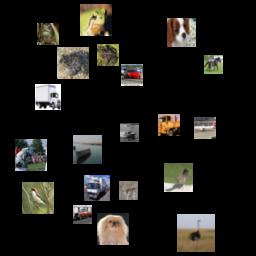airplane: (194, 117, 216, 139)
automobile: (121, 64, 143, 86), (73, 205, 92, 224)
bird: (177, 214, 215, 252), (22, 182, 54, 214), (164, 163, 193, 192)
deer: (119, 181, 138, 200)
dog: (97, 213, 129, 245), (167, 18, 196, 47)
frog: (80, 4, 112, 36), (57, 47, 89, 79), (37, 23, 59, 45), (97, 44, 119, 66)
ship: (73, 135, 102, 164), (120, 123, 139, 142)
truck: (84, 175, 110, 201), (35, 84, 61, 110), (158, 114, 180, 136)
